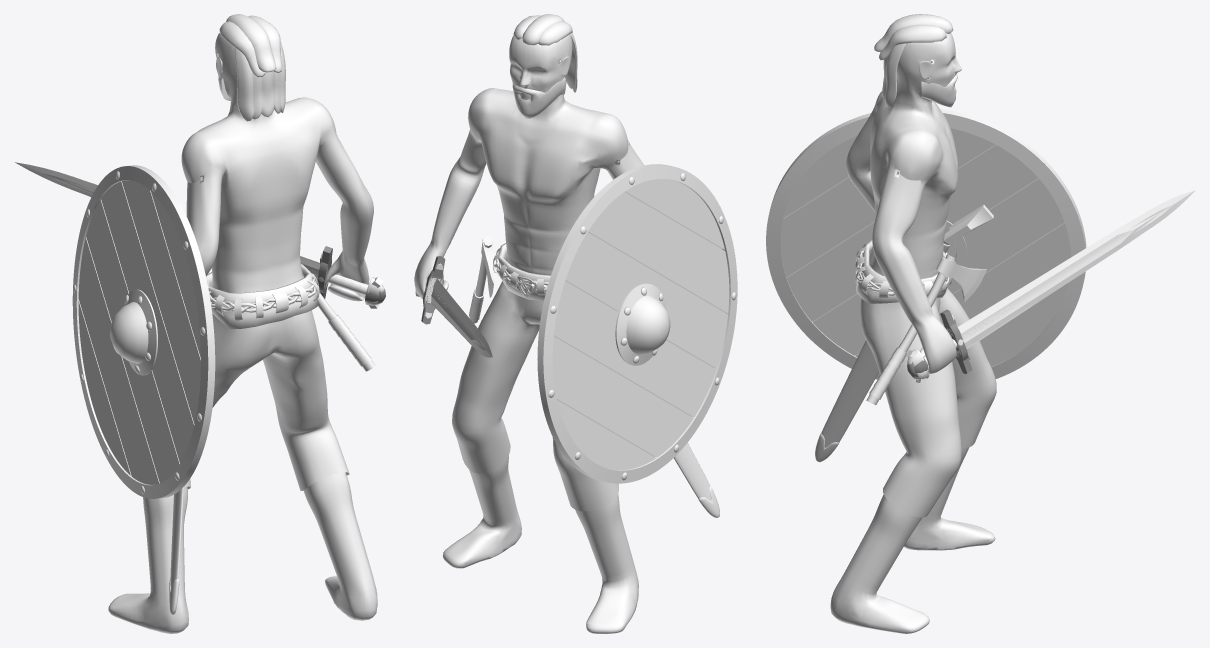
File: actor.glb
The picture shows the model from 3 angles, left to right: view 1: azimuth 30°, elevation 25°; view 2: azimuth 150°, elevation 25°; view 3: azimuth 270°, elevation 25°; orthographic projection. The views are drawn at different scales.
Parts seen in each view (by area): view 1: skin_ma, shield_L, trousers_ma_short, ne_hair_5, hips_belt_ma, sheath_sword.003, throwingaxe_R, hips_rungs_ma, sword_Blade_A.001, hips_braid_ma; view 2: shield_L, skin_ma, trousers_ma_short, ne_hair_5, sheath_sword.003, sword_Blade_B.001, beard0, throwingaxe_R, hips_belt_ma; view 3: shield_L, skin_ma, trousers_ma_short, sword_Blade_B.001, sheath_sword.003, ne_hair_5, throwingaxe_R, sword_Blade_A.001, hips_belt_ma, shield_handle_L, beard0, hips_rungs_ma.
Boxes of the visible parts, x1,y1,x2,y2 form: skin_ma: (108, 33, 377, 633); shield_L: (72, 165, 215, 498); trousers_ma_short: (184, 272, 349, 490); ne_hair_5: (219, 14, 285, 121); hips_belt_ma: (206, 264, 319, 329); sheath_sword.003: (169, 487, 183, 614); throwingaxe_R: (316, 292, 375, 371); hips_rungs_ma: (209, 273, 319, 320); sword_Blade_A.001: (15, 162, 320, 263); hips_braid_ma: (209, 277, 316, 312); shield_L: (537, 164, 737, 483); skin_ma: (414, 34, 643, 633); trousers_ma_short: (452, 251, 618, 511); ne_hair_5: (513, 14, 577, 92); sheath_sword.003: (674, 442, 719, 517); sword_Blade_B.001: (431, 280, 482, 349); beard0: (512, 75, 566, 118); throwingaxe_R: (469, 235, 493, 323); hips_belt_ma: (498, 243, 550, 300); shield_L: (766, 108, 1086, 379); skin_ma: (830, 33, 995, 633); trousers_ma_short: (860, 247, 996, 517); sword_Blade_B.001: (958, 213, 1159, 347); sheath_sword.003: (815, 240, 949, 462); ne_hair_5: (874, 14, 953, 107); throwingaxe_R: (866, 254, 986, 404); sword_Blade_A.001: (957, 190, 1195, 348); hips_belt_ma: (856, 240, 947, 303); shield_handle_L: (944, 204, 993, 243); beard0: (921, 74, 957, 107); hips_rungs_ma: (855, 243, 951, 297).
Size of the model in its own units: 0.8162 by 1.74 by 1.19.
8 materials, 1 textured.
